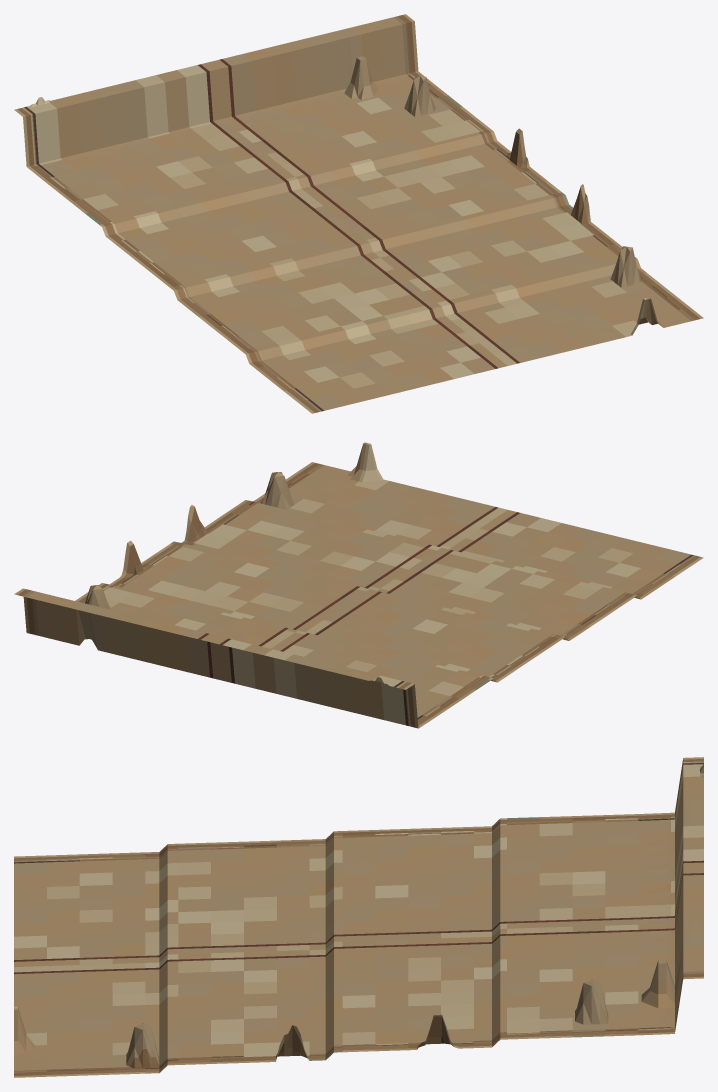
File: liner_net_post_run.glb
3 views of the same model, one above another, from view 1: azimuth 30°, elevation 25°; view 2: azimuth 150°, elevation 25°; view 3: azimuth 270°, elevation 25° (orthographic). The views are drawn at different scales.
Visible parts, largest first — view 1: liner_net_post_run_body; view 2: liner_net_post_run_body; view 3: liner_net_post_run_body.
Part boxes in pixels (x1,y1,x2,y2): liner_net_post_run_body: (14,14,703,413); liner_net_post_run_body: (14,442,703,728); liner_net_post_run_body: (14,757,703,1077).
Size of the model in its own units: 126 by 28.26 by 166.
